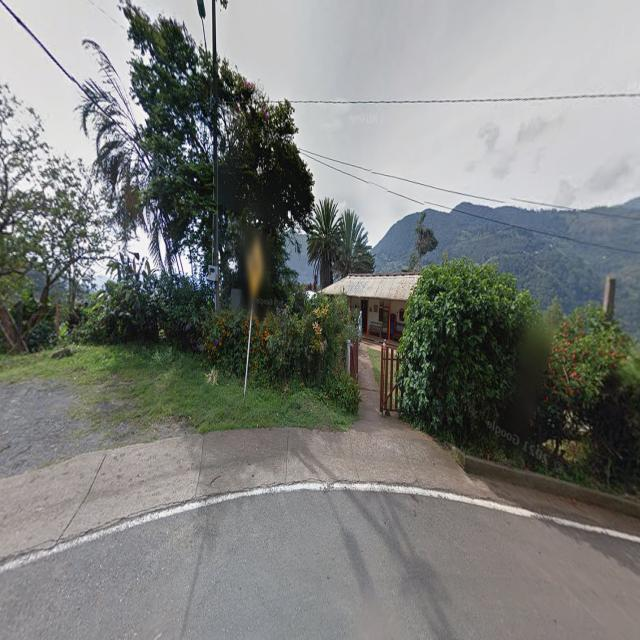Fachada: (322, 273, 420, 343)
Poste: (212, 0, 220, 312)
